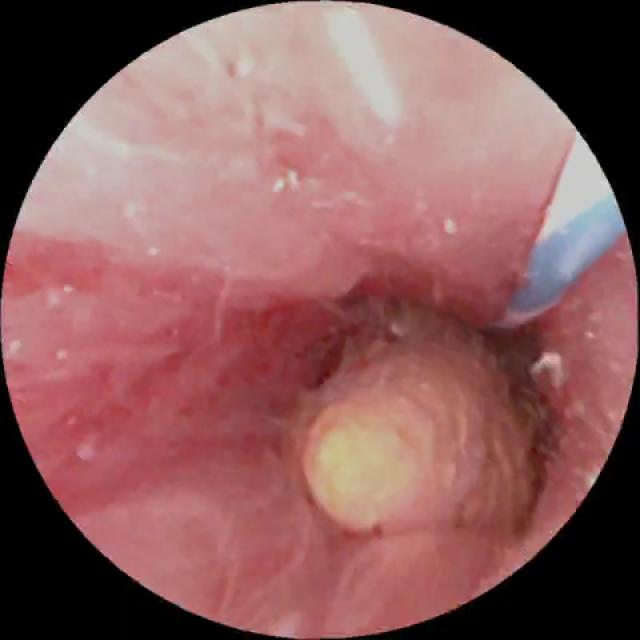stone: (299, 309, 543, 533)
tissue: (14, 17, 551, 627), (533, 262, 632, 543)
